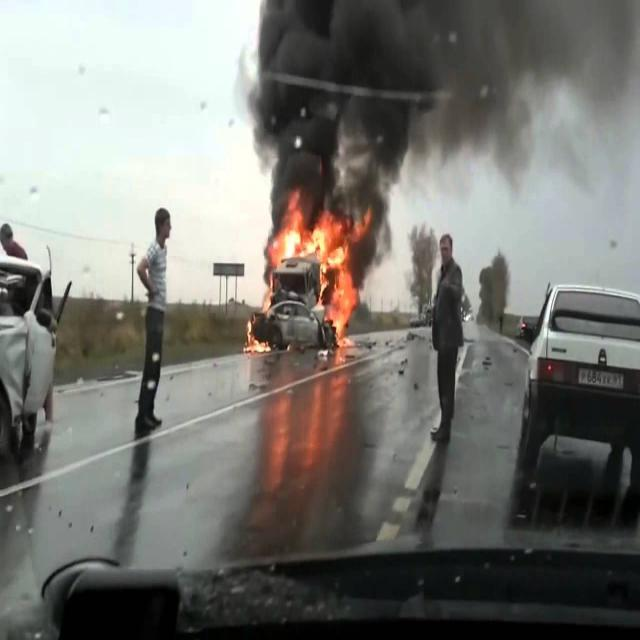Fire: (269, 189, 372, 337), (243, 321, 271, 353)
Smoke: (247, 0, 640, 281)
